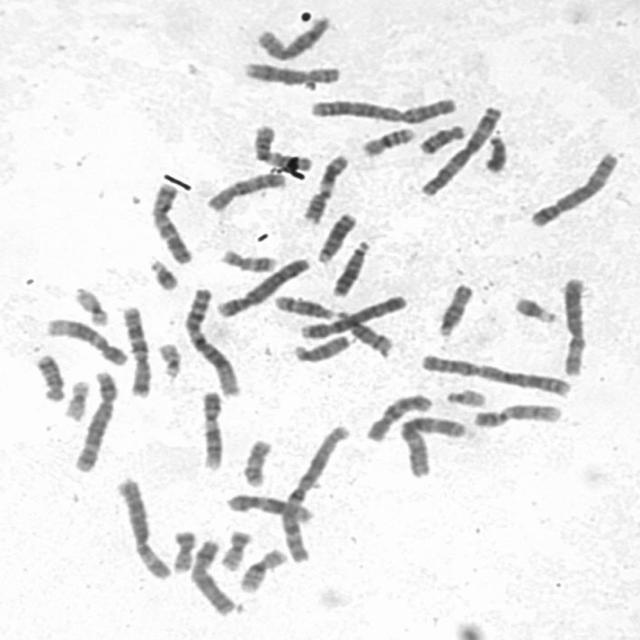A1: (278, 422, 352, 566), (180, 285, 243, 398)
A2: (416, 351, 574, 397), (305, 93, 458, 125)
A3: (417, 104, 504, 197), (396, 413, 468, 478)
B4: (213, 254, 312, 320), (297, 292, 409, 341)
B5: (526, 149, 621, 230), (71, 368, 120, 474)
C10: (362, 390, 434, 443), (202, 170, 288, 214)
C11: (300, 154, 350, 226), (249, 122, 314, 173)
C12: (44, 314, 129, 366), (225, 491, 316, 524)
C6: (114, 474, 174, 581), (558, 274, 588, 377)
C7: (148, 180, 195, 264), (119, 302, 152, 400)
C8: (252, 12, 332, 62), (239, 59, 343, 86)
C9: (469, 401, 564, 430), (198, 390, 225, 474)
D13: (328, 238, 372, 298), (312, 210, 358, 264)
D14: (336, 311, 393, 354), (272, 292, 344, 322)
D15: (434, 280, 475, 338), (290, 332, 354, 363)
E16: (234, 546, 288, 594), (358, 124, 416, 158)
E17: (239, 436, 275, 489), (218, 246, 278, 274)
E18: (416, 121, 466, 156), (34, 352, 68, 402)
F19: (71, 284, 110, 328), (61, 377, 93, 421)
F20: (217, 527, 254, 571), (169, 527, 197, 574)
G21: (511, 294, 560, 325), (147, 257, 180, 293)
G22: (156, 340, 184, 380), (442, 386, 487, 408)
X: (188, 536, 236, 617)
Y: (483, 134, 508, 174)
